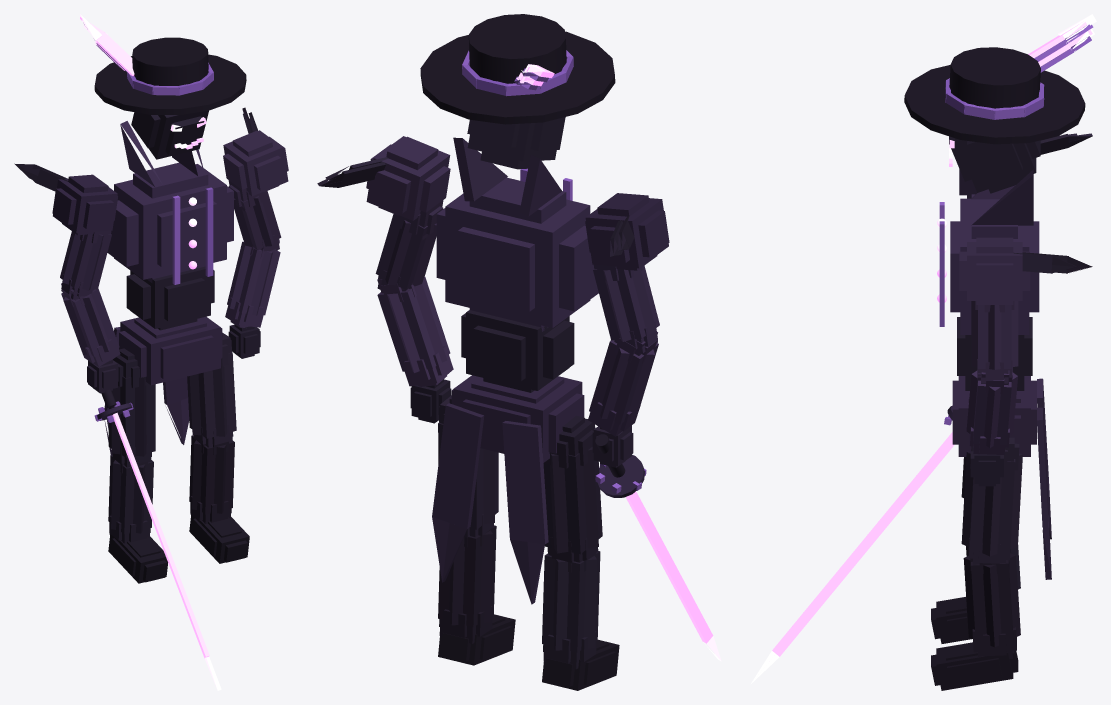
3 views of the same model, side by side, from view 1: azimuth 30°, elevation 25°; view 2: azimuth 150°, elevation 25°; view 3: azimuth 270°, elevation 25° (orthographic). The views are drawn at different scales.
Visible parts, largest first — view 1: ShadeDuelist; view 2: ShadeDuelist; view 3: ShadeDuelist.
Part boxes in pixels (<box>): ShadeDuelist: <box>14,14,288,690</box>; ShadeDuelist: <box>317,14,721,690</box>; ShadeDuelist: <box>751,14,1096,690</box>.
Bounding box in the file's own units: 0.7034 × 1.66 × 0.7728.
